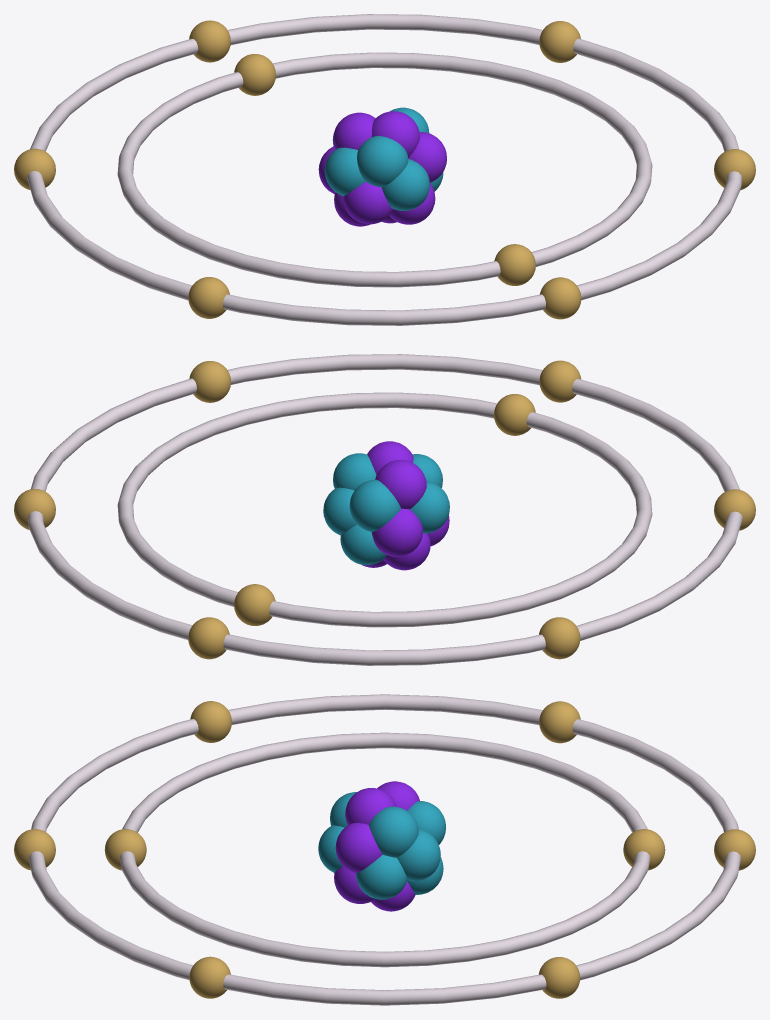
The model's file is oxigenio.glb.
The picture shows the model from 3 angles, top to bottom: view 1: azimuth 30°, elevation 25°; view 2: azimuth 150°, elevation 25°; view 3: azimuth 270°, elevation 25°; orthographic projection.
Parts seen in each view (by area): view 1: Orbita_2, Orbita_1, Nucleo_Completo, Eletron_C2_1, Eletron_1, Eletron_C3_6, Eletron_C3_3, Eletron_C3_4, Eletron_2, Eletron_C3_5, Eletron_C2_2; view 2: Orbita_2, Orbita_1, Nucleo_Completo, Eletron_C3_4, Eletron_2, Eletron_C3_5, Eletron_C2_2, Eletron_C2_1, Eletron_1, Eletron_C3_6, Eletron_C3_3; view 3: Orbita_2, Orbita_1, Nucleo_Completo, Eletron_C2_2, Eletron_C3_3, Eletron_C3_5, Eletron_C3_6, Eletron_C3_4, Eletron_1, Eletron_2, Eletron_C2_1.
Part boxes in pixels (x1,y1,x2,y2): Orbita_2: (27, 14, 741, 325); Orbita_1: (117, 52, 652, 287); Nucleo_Completo: (318, 107, 446, 226); Eletron_C2_1: (539, 277, 581, 319); Eletron_1: (494, 244, 535, 285); Eletron_C3_6: (188, 277, 229, 318); Eletron_C3_3: (539, 21, 580, 62); Eletron_C3_4: (189, 20, 230, 62); Eletron_2: (234, 54, 275, 95); Eletron_C3_5: (14, 148, 55, 189); Eletron_C2_2: (714, 149, 755, 190); Orbita_2: (28, 354, 742, 665); Orbita_1: (117, 392, 652, 627); Nucleo_Completo: (323, 441, 449, 570); Eletron_C3_4: (188, 617, 229, 659); Eletron_2: (234, 584, 275, 625); Eletron_C3_5: (539, 617, 580, 659); Eletron_C2_2: (189, 361, 230, 402); Eletron_C2_1: (539, 360, 581, 402); Eletron_1: (494, 394, 535, 435); Eletron_C3_6: (714, 489, 755, 530); Eletron_C3_3: (14, 489, 55, 529); Orbita_2: (29, 694, 740, 1005); Orbita_1: (119, 732, 650, 967); Nucleo_Completo: (318, 781, 445, 911); Eletron_C2_2: (189, 956, 230, 998); Eletron_C3_3: (538, 957, 580, 998); Eletron_C3_5: (539, 701, 580, 743); Eletron_C3_6: (190, 701, 231, 742); Eletron_C3_4: (714, 829, 755, 870); Eletron_1: (104, 829, 146, 870); Eletron_2: (623, 829, 665, 870); Eletron_C2_1: (14, 829, 55, 870).
Bounding box in the file's own units: 2.76 × 0.4927 × 2.86.
